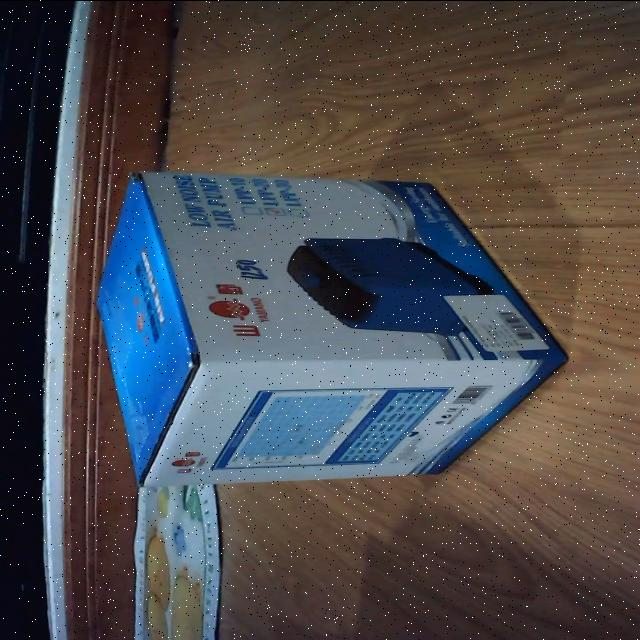YAMANO_LPP_20: (105, 160, 587, 490)
